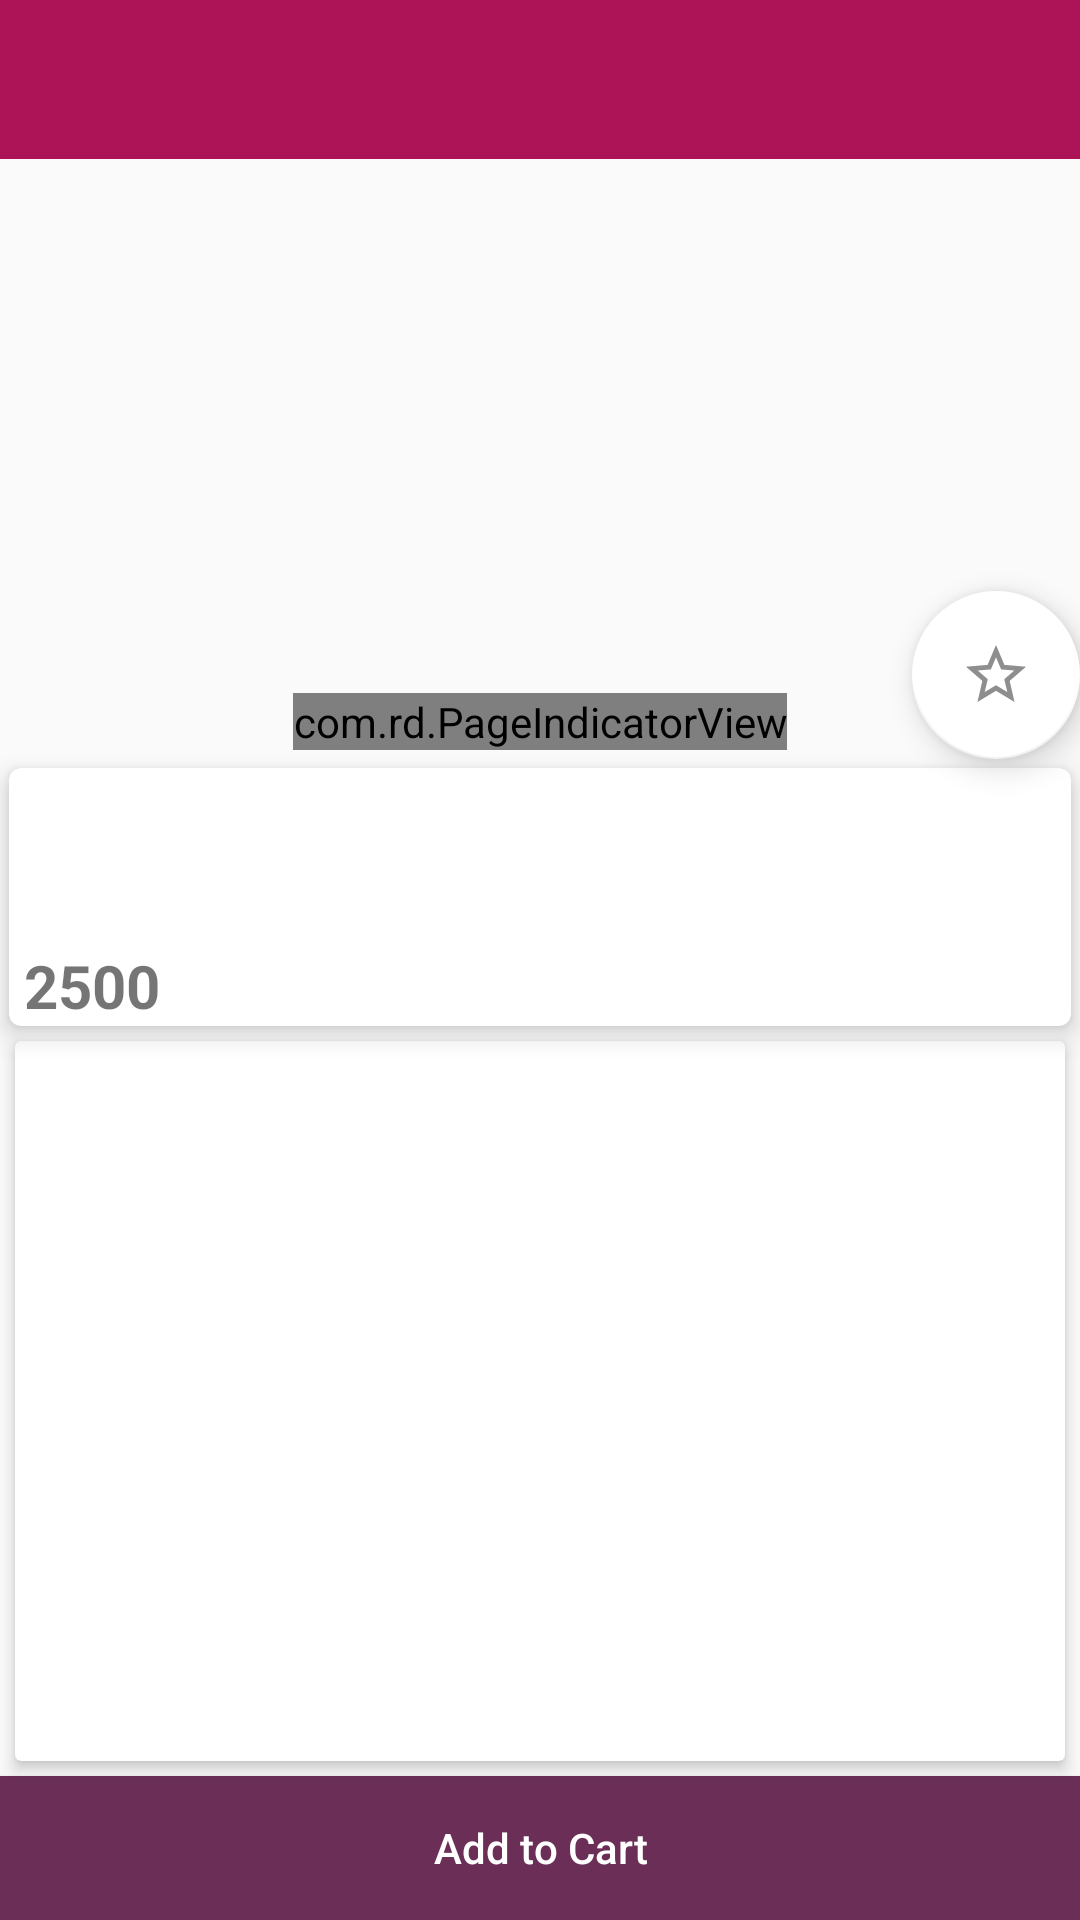

Point at icon controls on the screen. Image size 1080x1920, points as point (x, y).
star border: point (996, 675)
